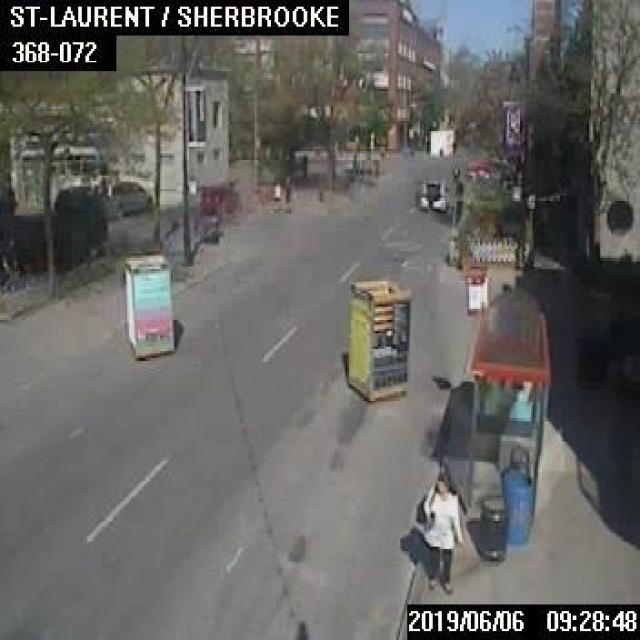pedestrian: (413, 476, 466, 594), (270, 178, 281, 211), (282, 174, 290, 211)
vehicle: (96, 175, 150, 214), (418, 178, 447, 211)
